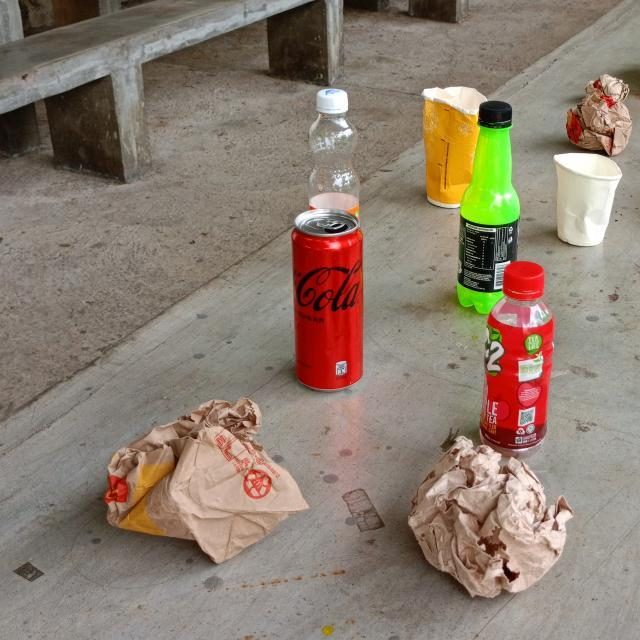recyclable waste: (90, 390, 315, 572), (393, 428, 586, 614), (285, 202, 373, 399), (474, 254, 556, 461), (452, 96, 526, 322), (411, 78, 494, 212), (302, 84, 366, 227), (548, 144, 628, 252), (556, 68, 640, 161)
